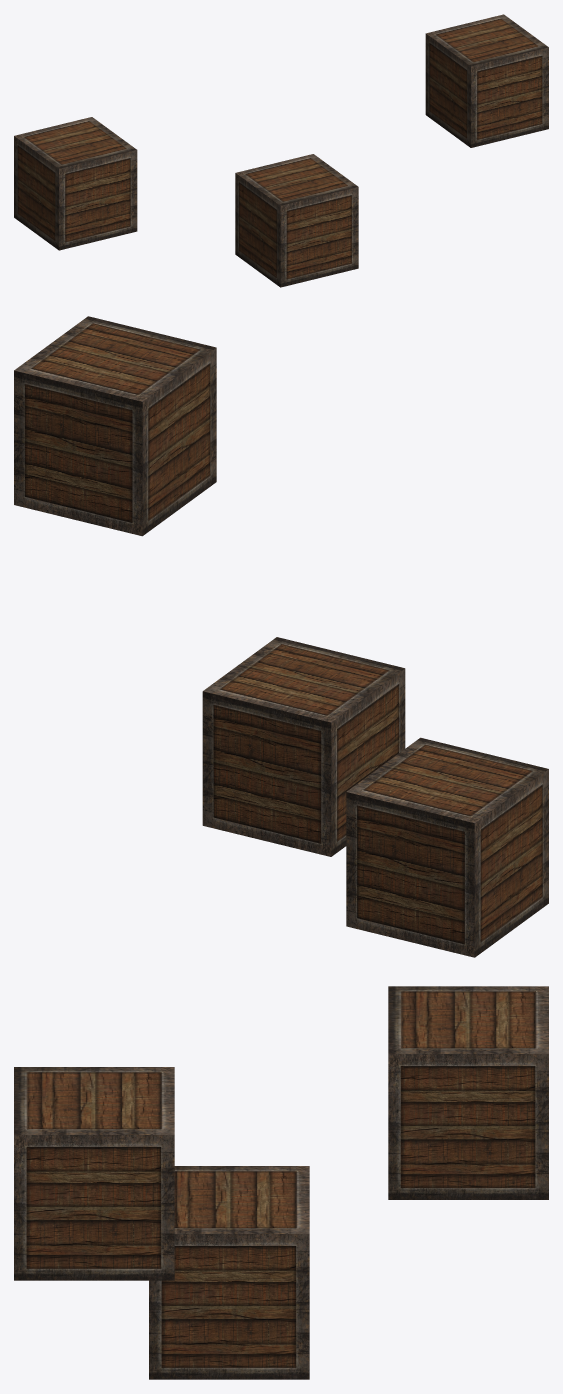
The model's file is cubes.fbx.
3 renders of one model, top to bottom at view 1: azimuth 30°, elevation 25°; view 2: azimuth 150°, elevation 25°; view 3: azimuth 270°, elevation 25°, orthographic. The views are drawn at different scales.
Parts seen in each view (by area): view 1: pCube1, pCube2, pCube3; view 2: pCube2, pCube3, pCube1; view 3: pCube2, pCube3, pCube1.
Boxes of the visible parts, bbox=[...] form: pCube1: bbox=[235, 154, 358, 287]; pCube2: bbox=[425, 14, 548, 147]; pCube3: bbox=[14, 117, 137, 250]; pCube2: bbox=[14, 316, 216, 536]; pCube3: bbox=[346, 737, 548, 957]; pCube1: bbox=[202, 637, 405, 856]; pCube2: bbox=[14, 1067, 174, 1280]; pCube3: bbox=[388, 986, 548, 1199]; pCube1: bbox=[149, 1166, 309, 1379].
Size of the model in its own units: 4.93 by 2.59 by 3.33.
1 material, 1 textured.
